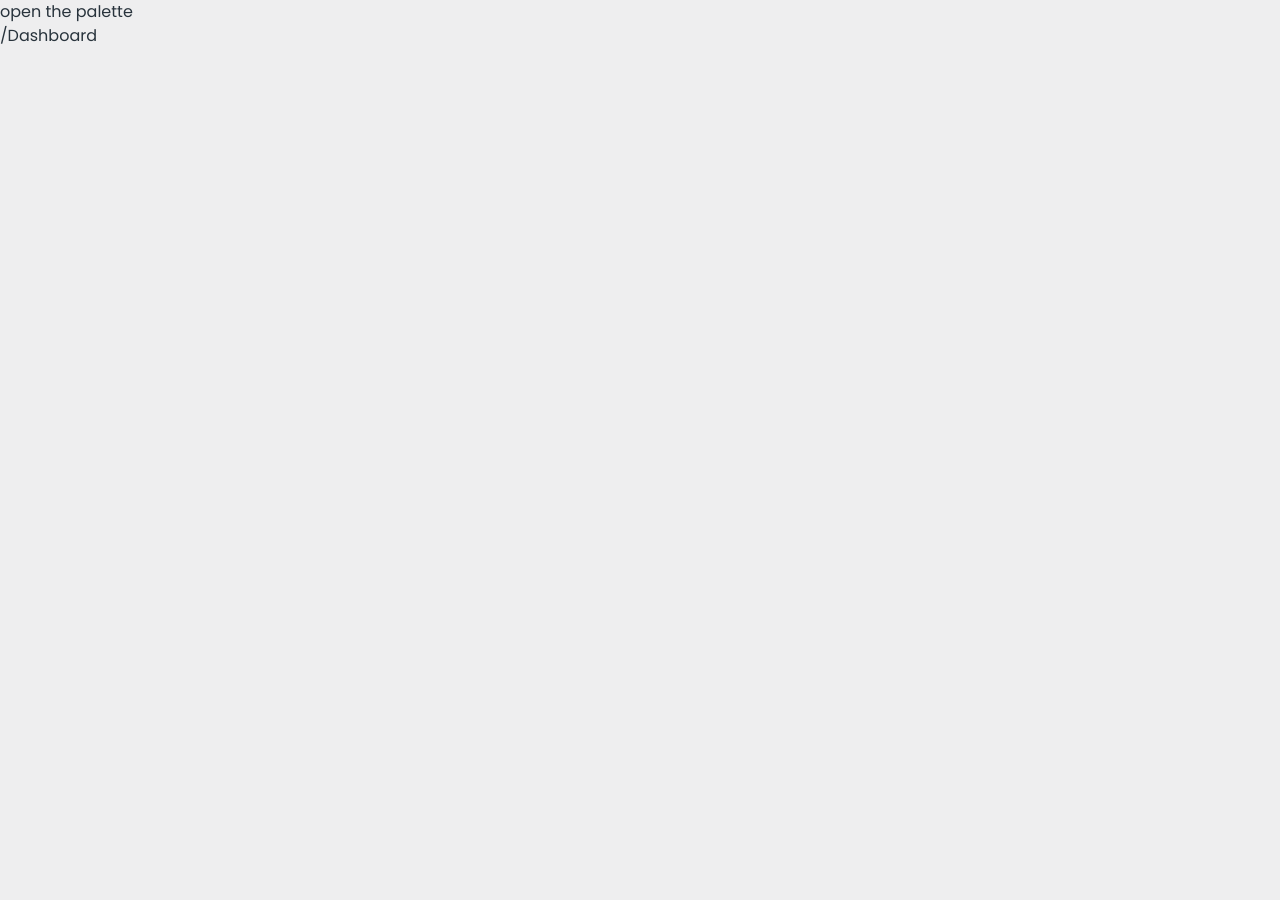
Test: choosing › opens a record on its own screen and remembers it
The image size is (1280, 900).
Press k
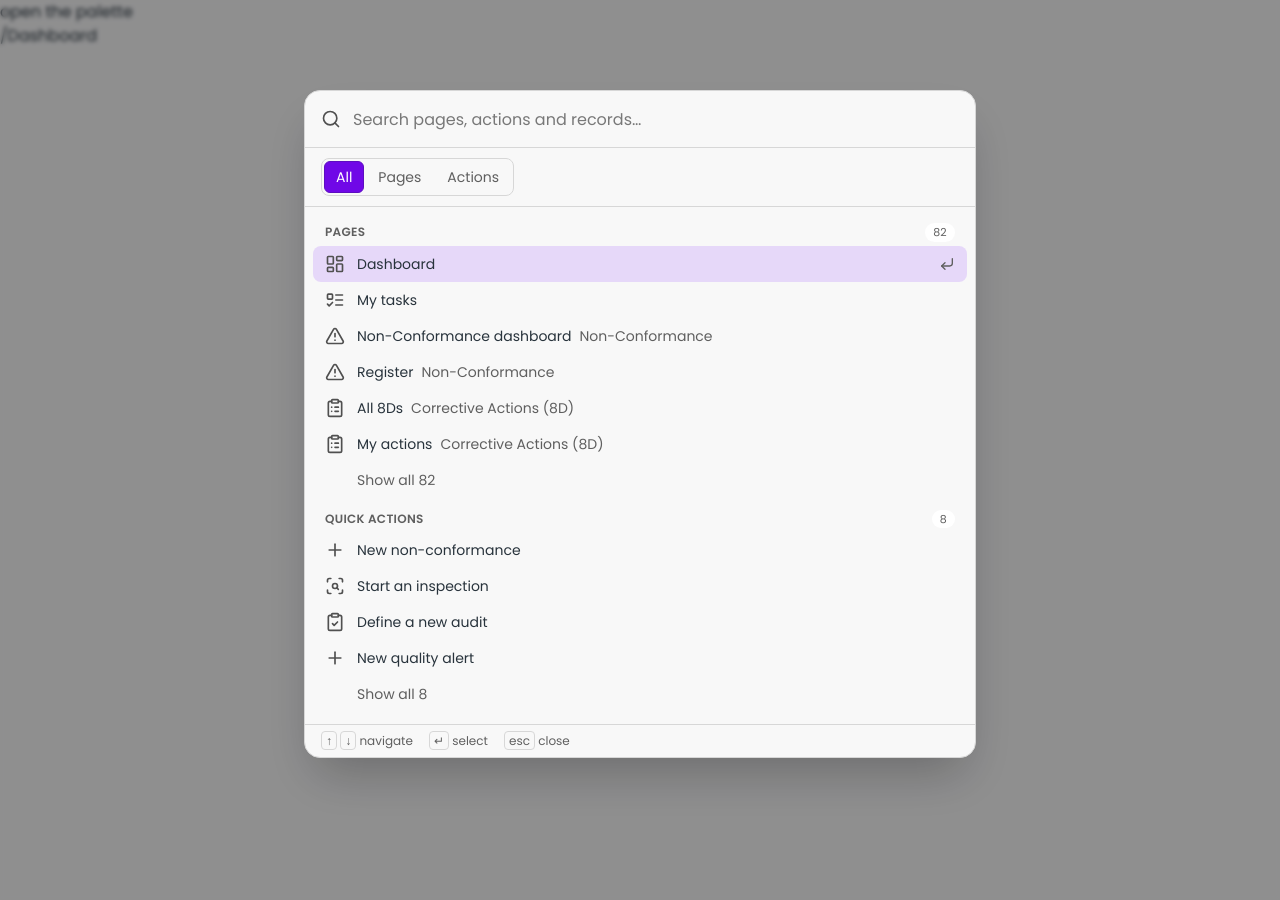
Type "crack" into the dropdown labelled "Search pages, actions and records…" at [656, 119], box [353,91,959,147]
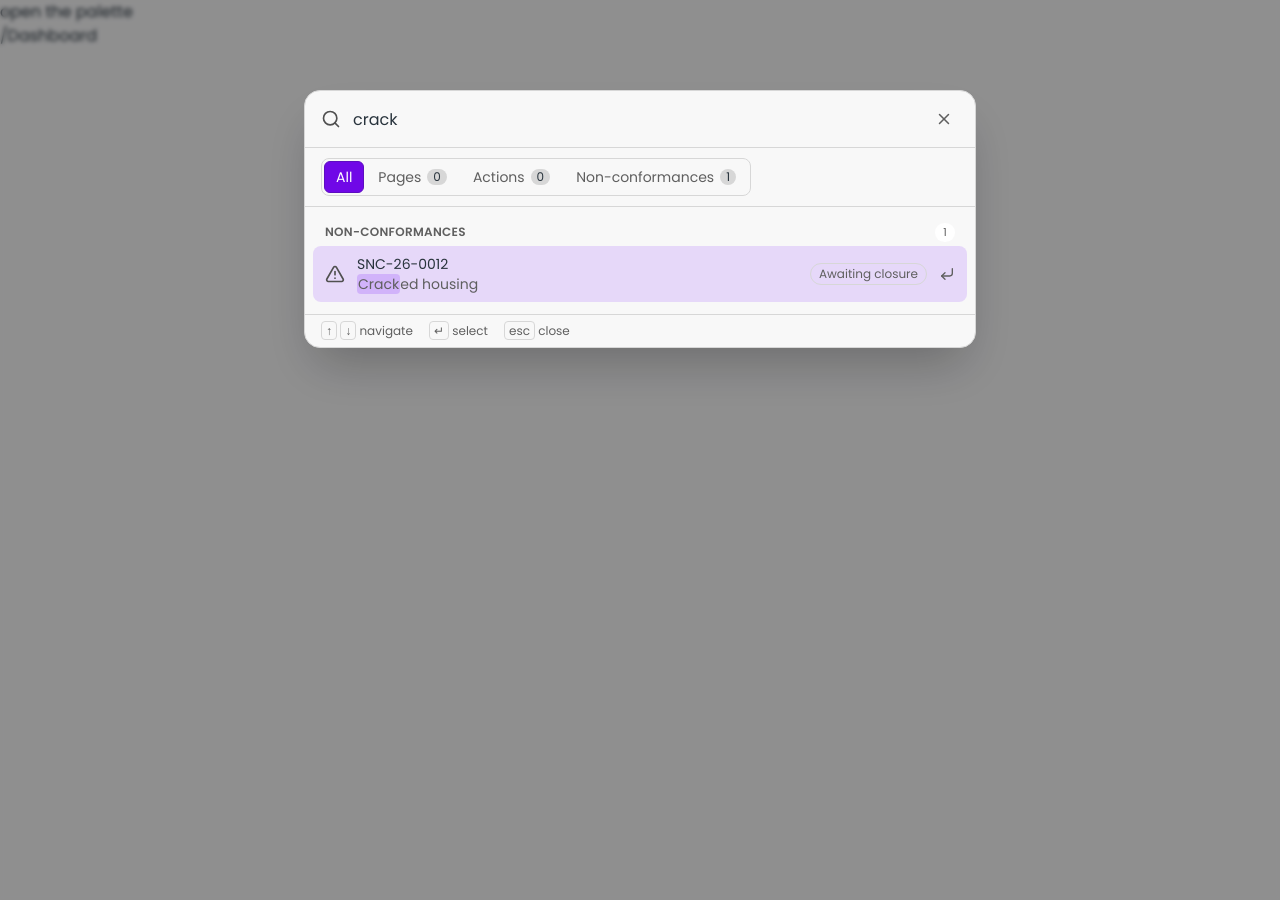
Expected: the text "Awaiting closure" is shown, [810,263,927,285]
Click the option "SNC-26-0012 Cracked housing Awaiting closure" at [403, 264], box [313,246,967,302]
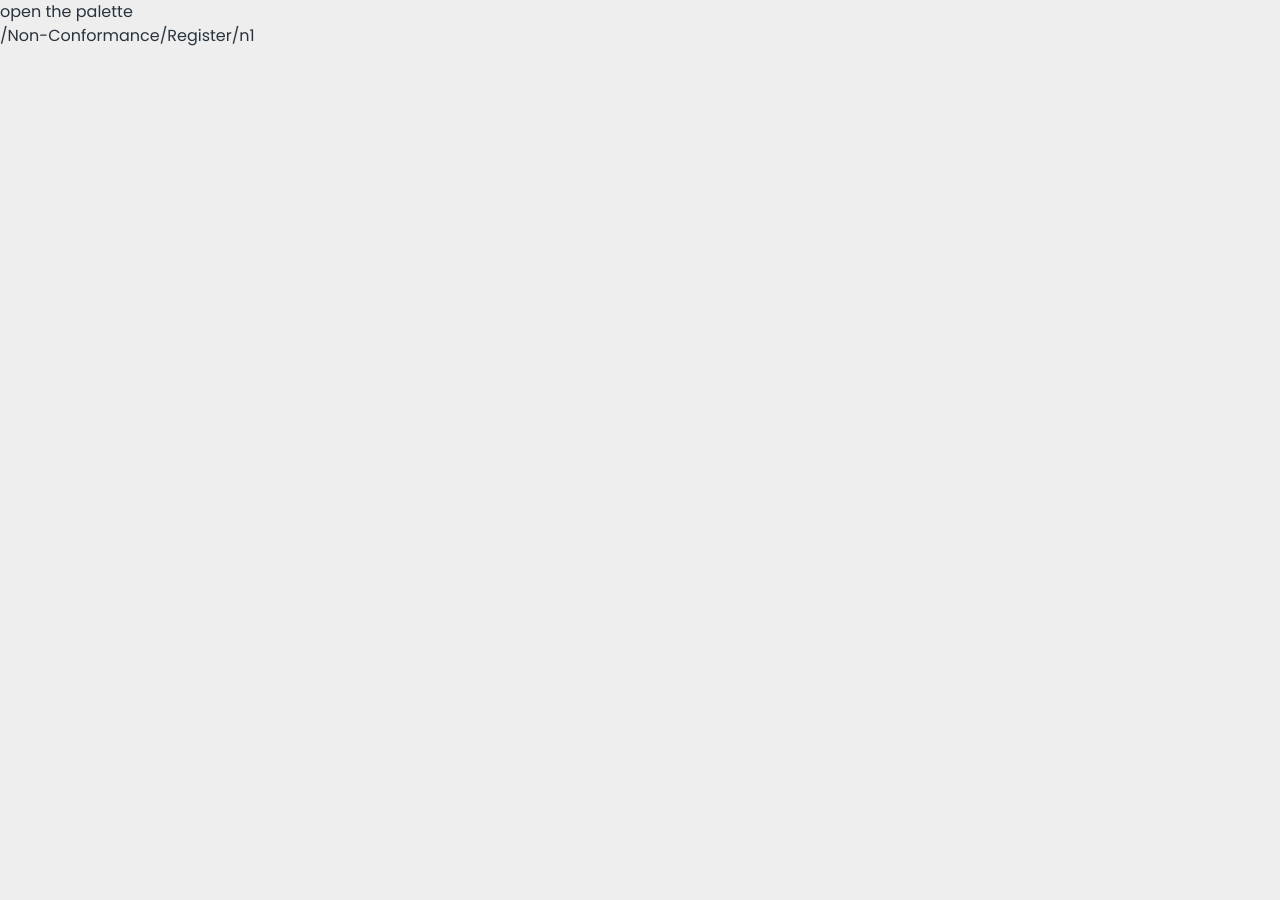
Expected: the text with test id "where" reads "/Non-Conformance/Register/n1", [0,24,255,47]
Press k
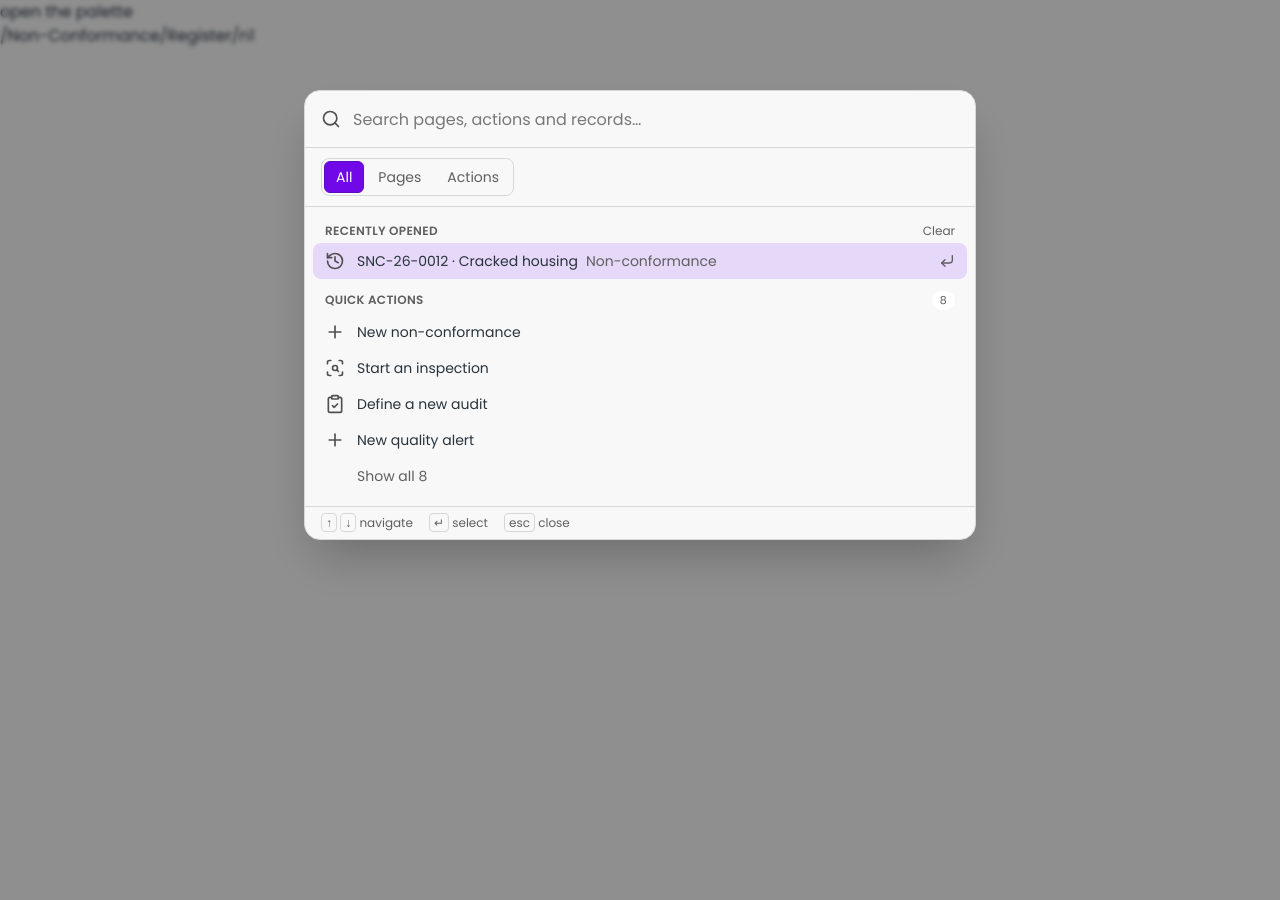
Expected: the text "SNC-26-0012 · Cracked housing" is shown, [357,251,578,271]
